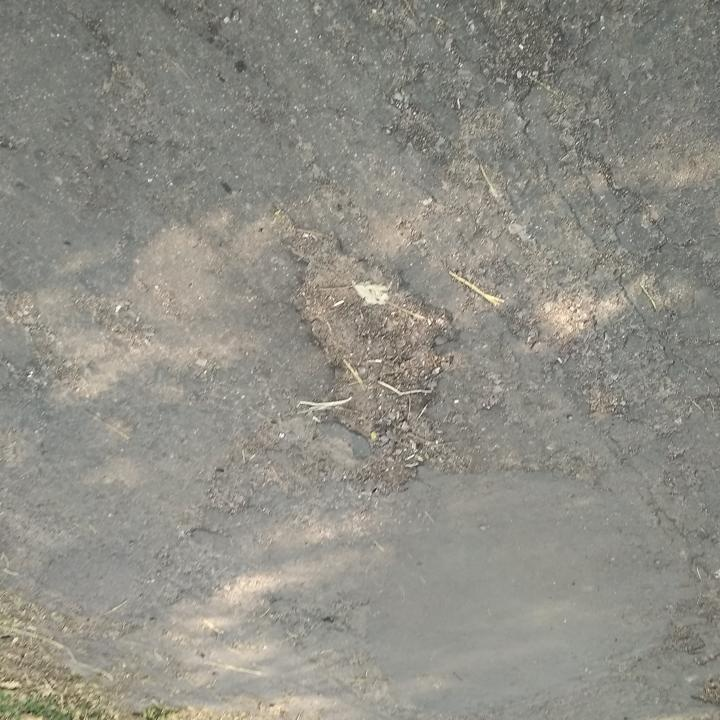pothole: (274, 222, 466, 498)
